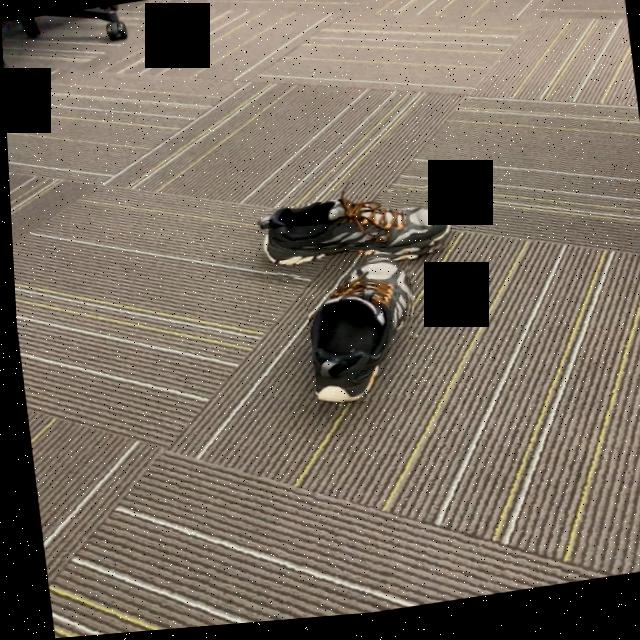shoe: (307, 268, 408, 411), (255, 204, 448, 272)
